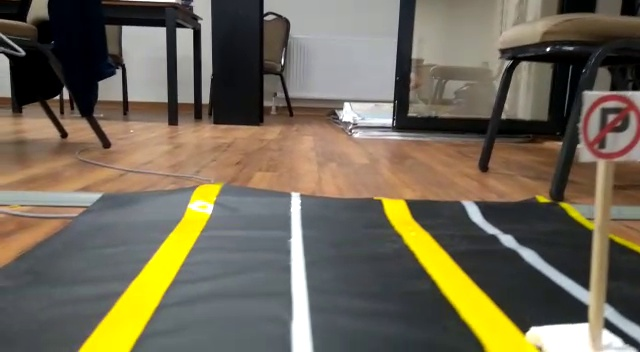park_yapilmaz: (577, 93, 640, 160)
